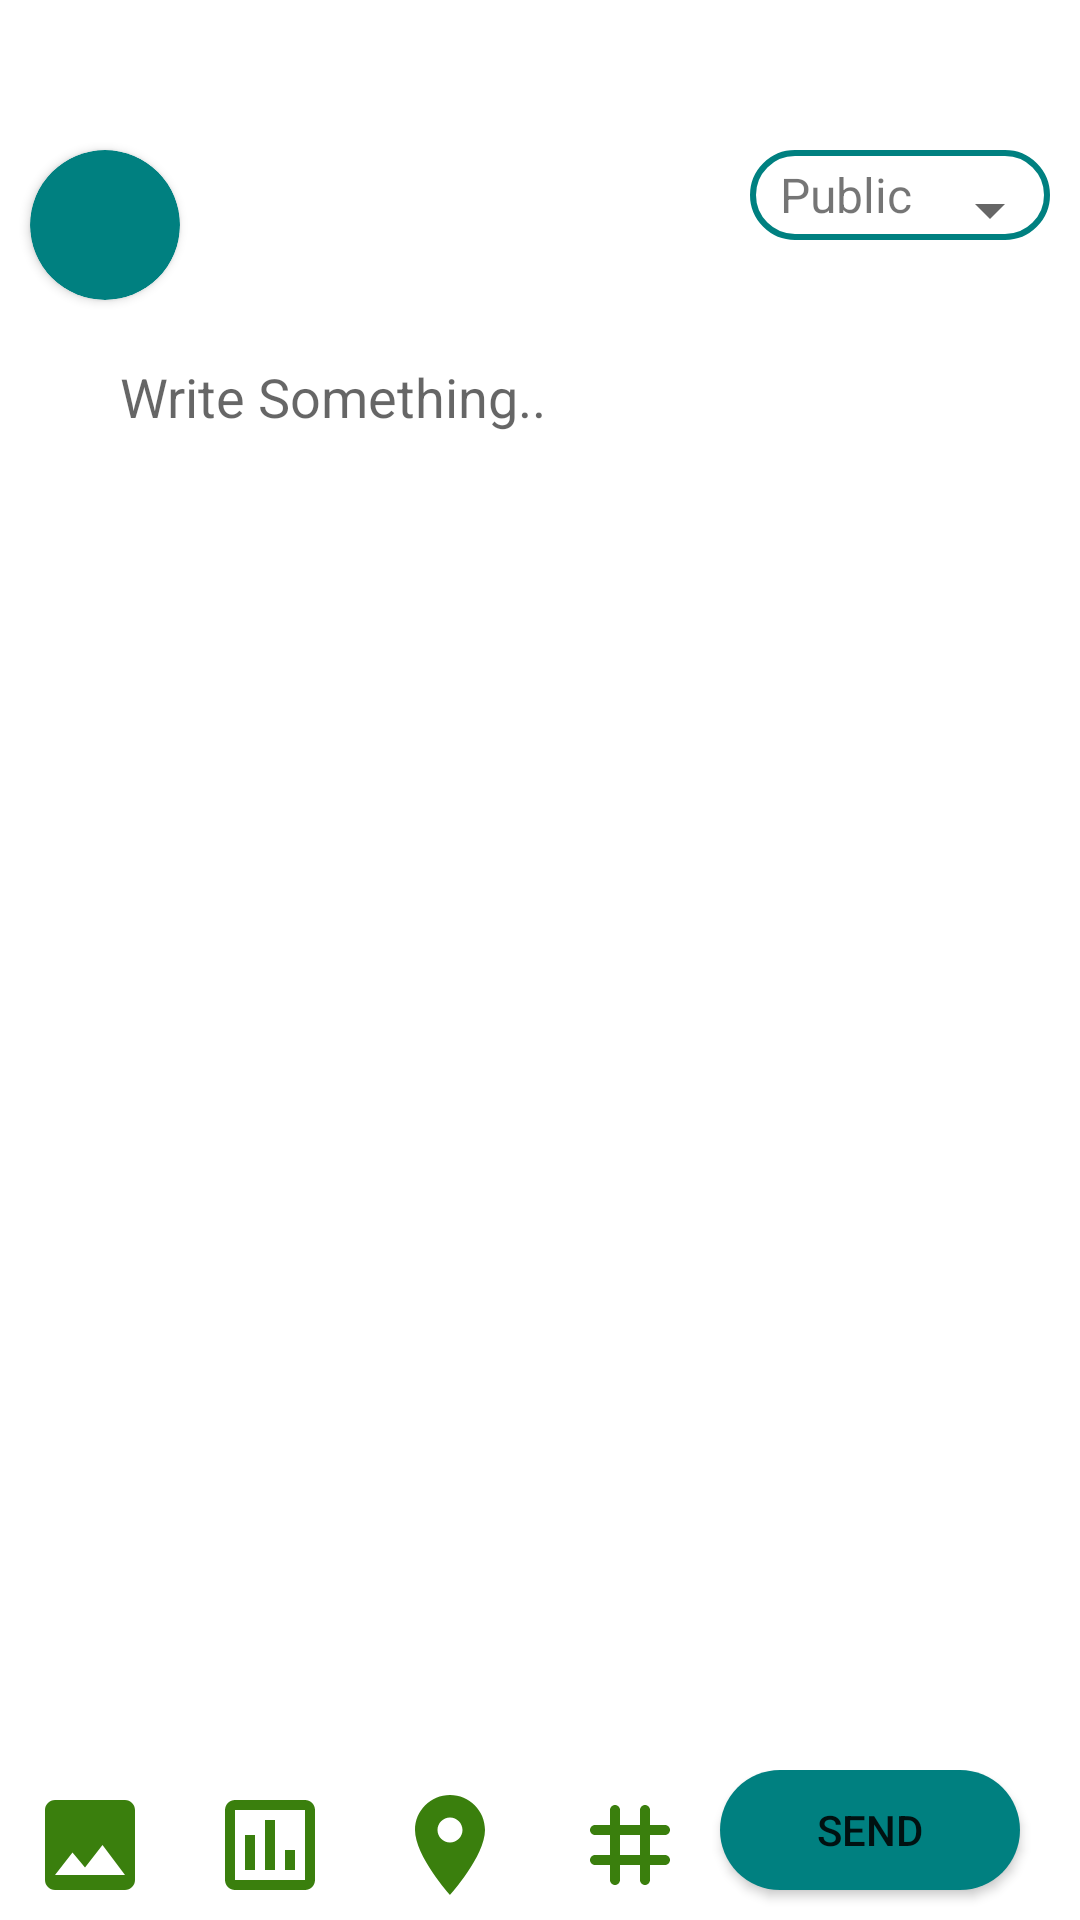

Named icons in this screenshot (1080 × 1920) and their bounding boxes, (x1, y1, x2, y2):
location on: (415, 1795, 485, 1895)
poll: (225, 1800, 315, 1890)
tag: (590, 1805, 670, 1885)
